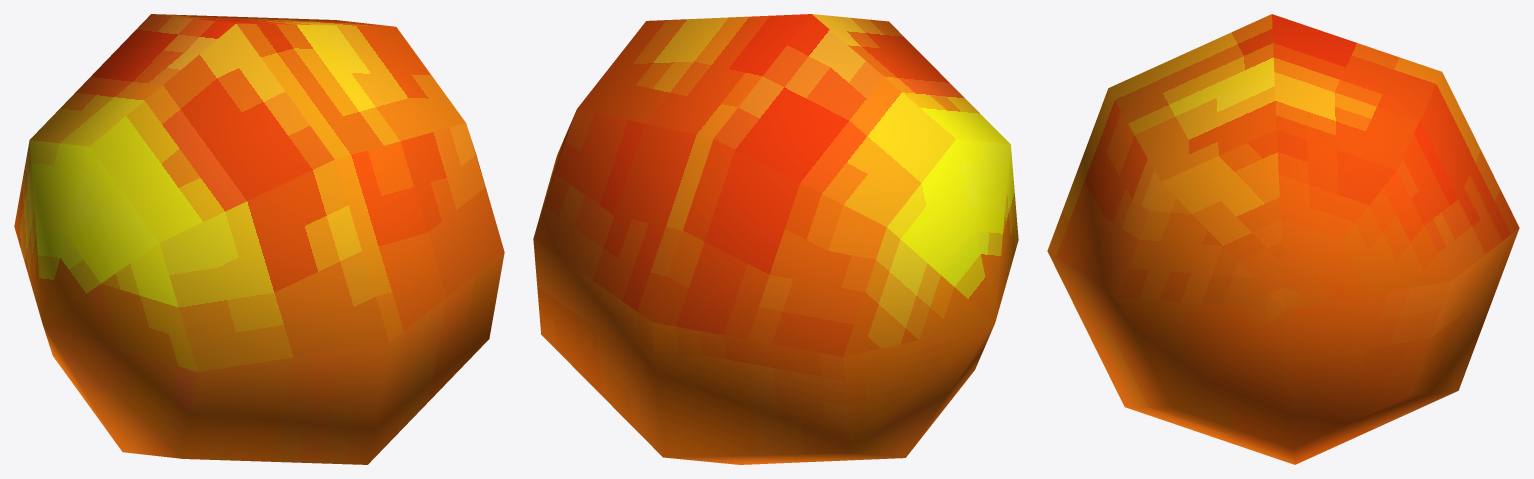
The picture shows the model from 3 angles, left to right: view 1: azimuth 30°, elevation 25°; view 2: azimuth 150°, elevation 25°; view 3: azimuth 270°, elevation 25°; orthographic projection. The views are drawn at different scales.
Visible parts, largest first — view 1: Sphere_8 (1); view 2: Sphere_8 (1); view 3: Sphere_8 (1).
Boxes of the visible parts, x1,y1,x2,y2 form: Sphere_8 (1): (14, 14, 504, 464); Sphere_8 (1): (533, 14, 1018, 464); Sphere_8 (1): (1047, 14, 1519, 464).
Size of the model in its own units: 1.06 by 1.06 by 1.07.
